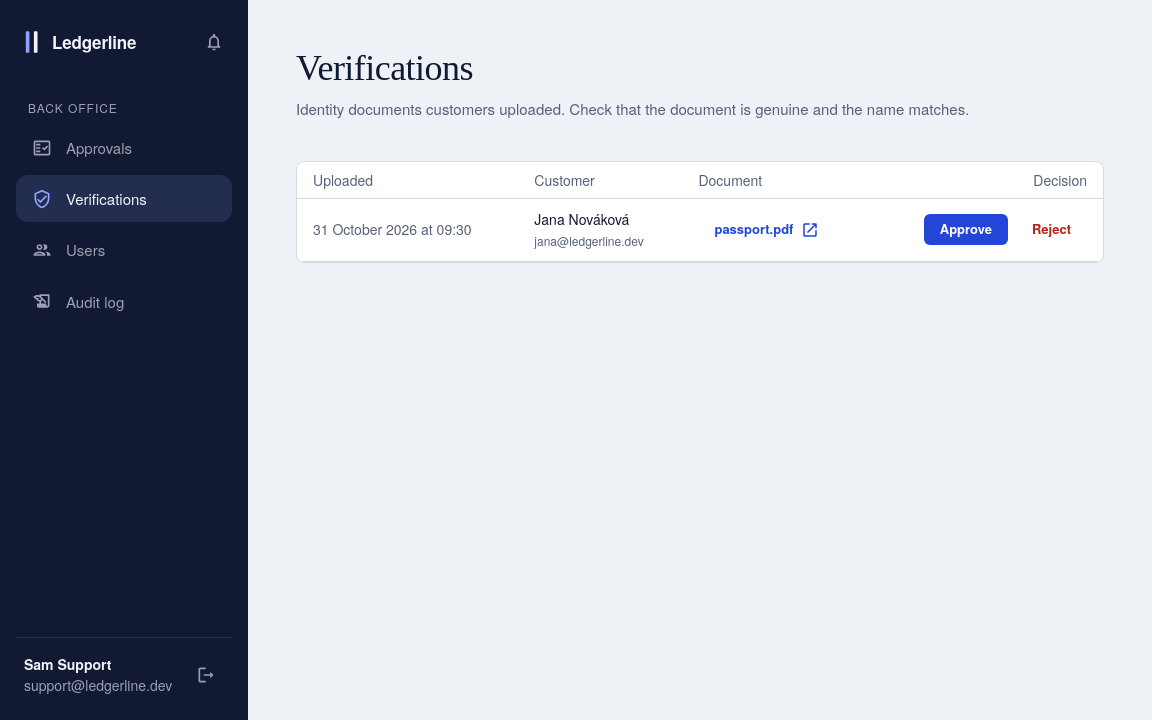
Test: Verifications › rejects a document with a reason, and the audit log records it
Click the button with aria-label "Reject Jana Nováková": (1052, 230) 1016,214 -> 1087,245
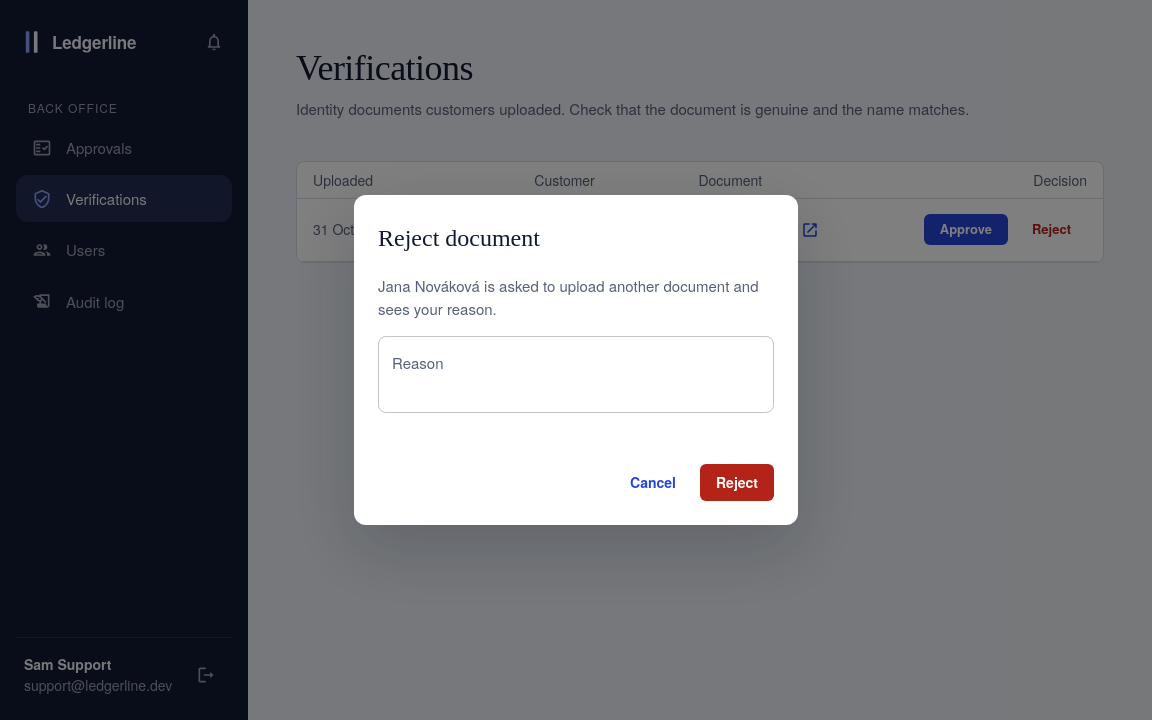
In the text box labelled "Reason": (576, 375) 392,353 -> 760,397, type "The photo is blurred"
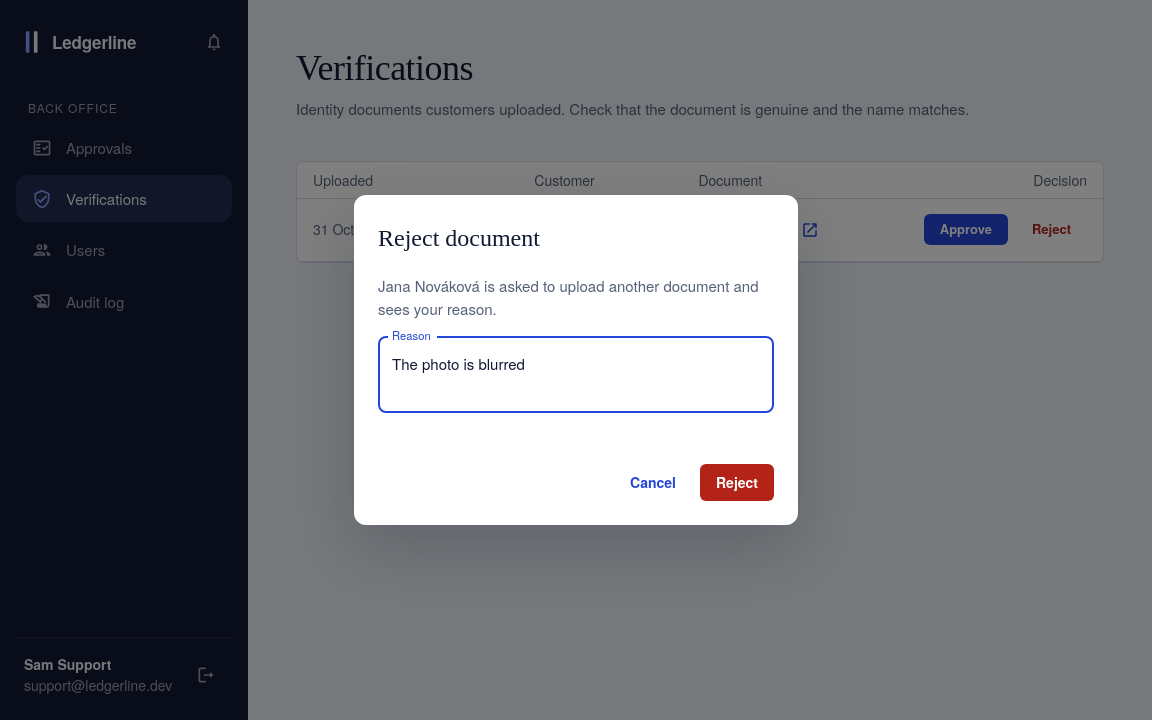
Click the button "Reject": (737, 482) 700,464 -> 774,501
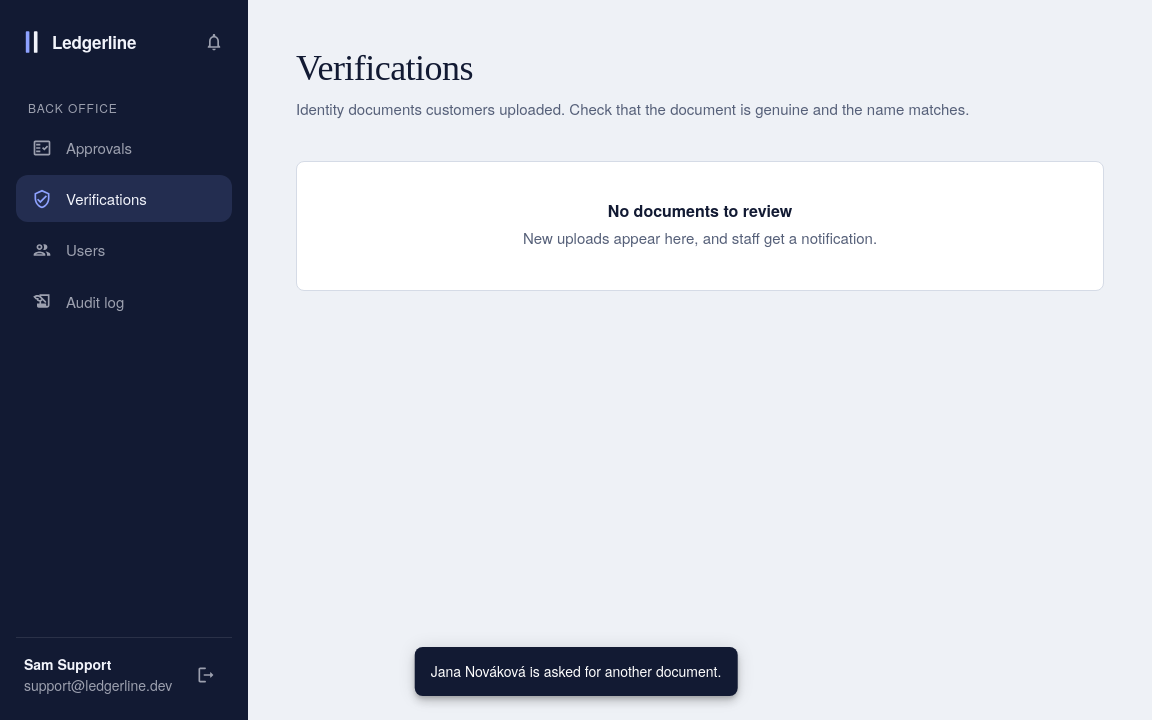
expect the text "Jana Nováková is asked for another document." is shown: met, box 431,661 -> 721,681
expect the dialog is gone: met
Click the link "Audit log": (78, 301) 32,291 -> 124,312
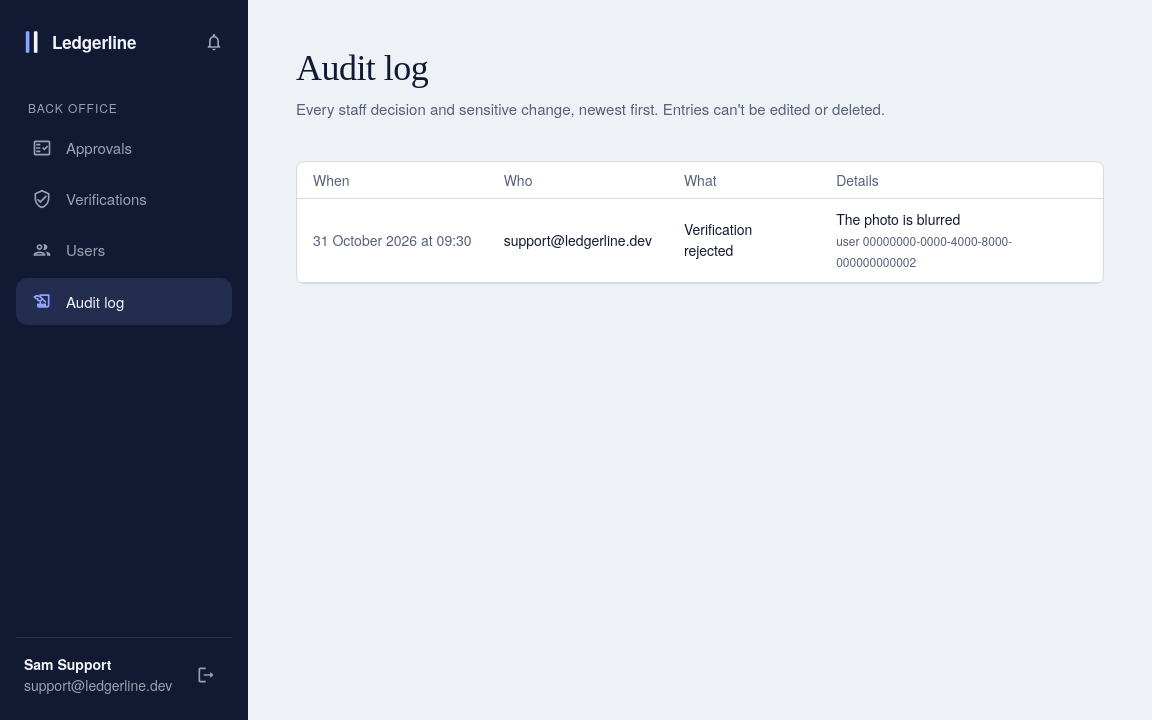
expect the text "Verification rejected" is shown: met, box 668,198 -> 820,282
expect the text "The photo is blurred" is shown: met, box 836,209 -> 960,229
expect the text "support@ledgerline.dev" is shown: met, box 488,198 -> 668,282
